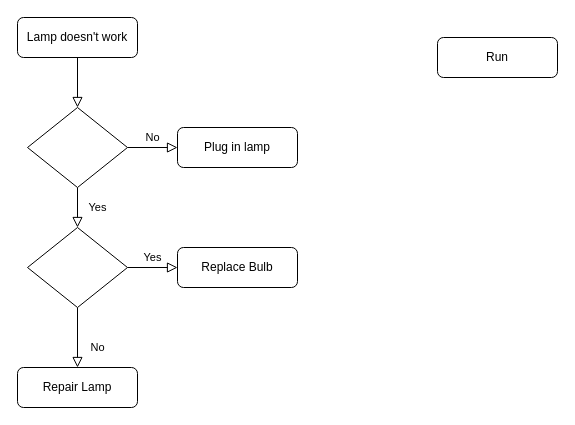
The diagram is 575 pixels wide and 425 high, and some of its shapes have lost their labels. The shapes that lost their labels are listed below. From the top down, each one's centre as x and y in pixels, then its label:
At (77,147): "Lamp plugged in?".
At (77,267): "Bulb burned out?".
